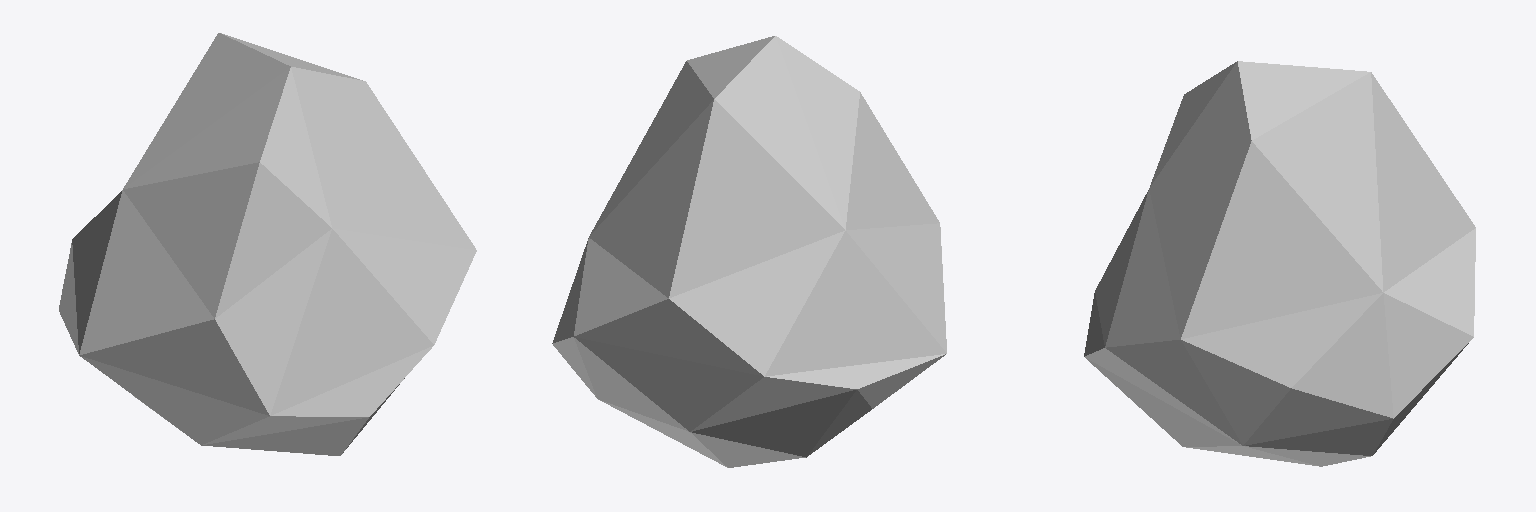
Rendered from dirt_rock2.obj.
3 renders of one model, left to right at view 1: azimuth 30°, elevation 25°; view 2: azimuth 150°, elevation 25°; view 3: azimuth 270°, elevation 25°, orthographic.
Visible parts, largest first — view 1: Cube; view 2: Cube; view 3: Cube.
Boxes of the visible parts, x1,y1,x2,y2 form: Cube: [59, 33, 476, 455]; Cube: [552, 36, 946, 467]; Cube: [1084, 61, 1475, 466].
Size of the model in its own units: 2.68 by 2.9 by 2.56.